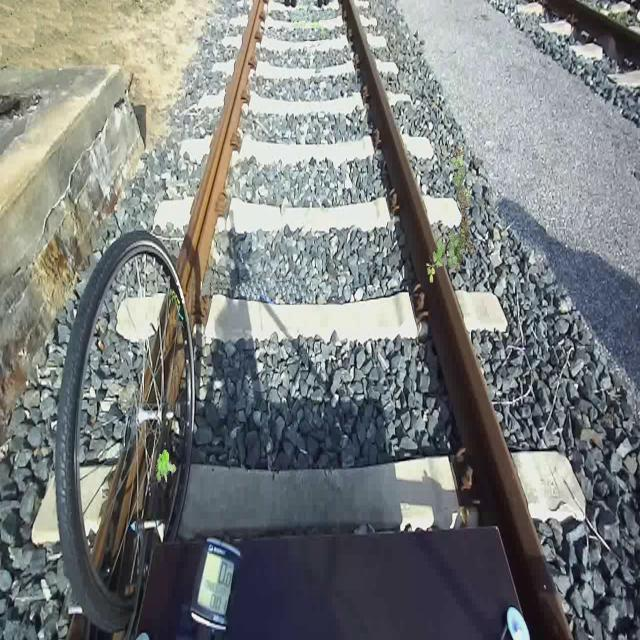Plant: (426, 145, 474, 283), (156, 450, 176, 483)
